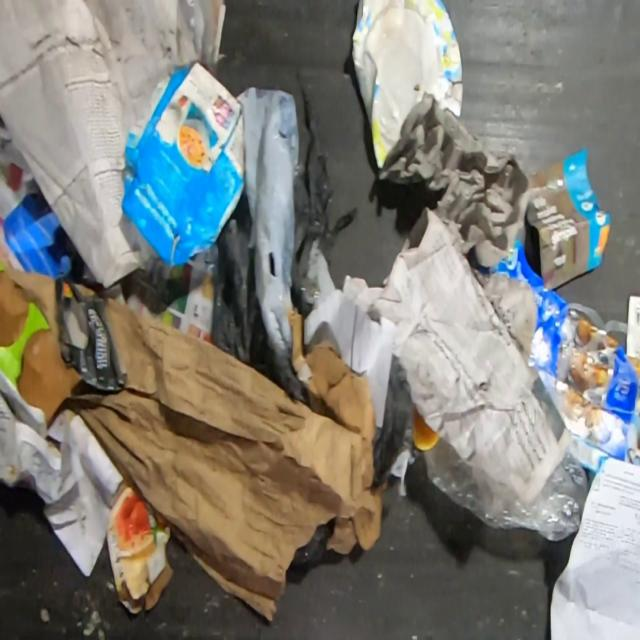cardboard: (486, 234, 640, 467), (120, 59, 245, 268), (351, 0, 464, 169), (0, 260, 80, 428), (105, 482, 178, 615), (56, 275, 128, 393), (0, 191, 82, 277)
soft_plastic: (210, 188, 311, 407), (420, 433, 591, 543), (234, 84, 300, 361), (293, 67, 358, 316), (288, 516, 335, 570), (565, 301, 628, 335)
